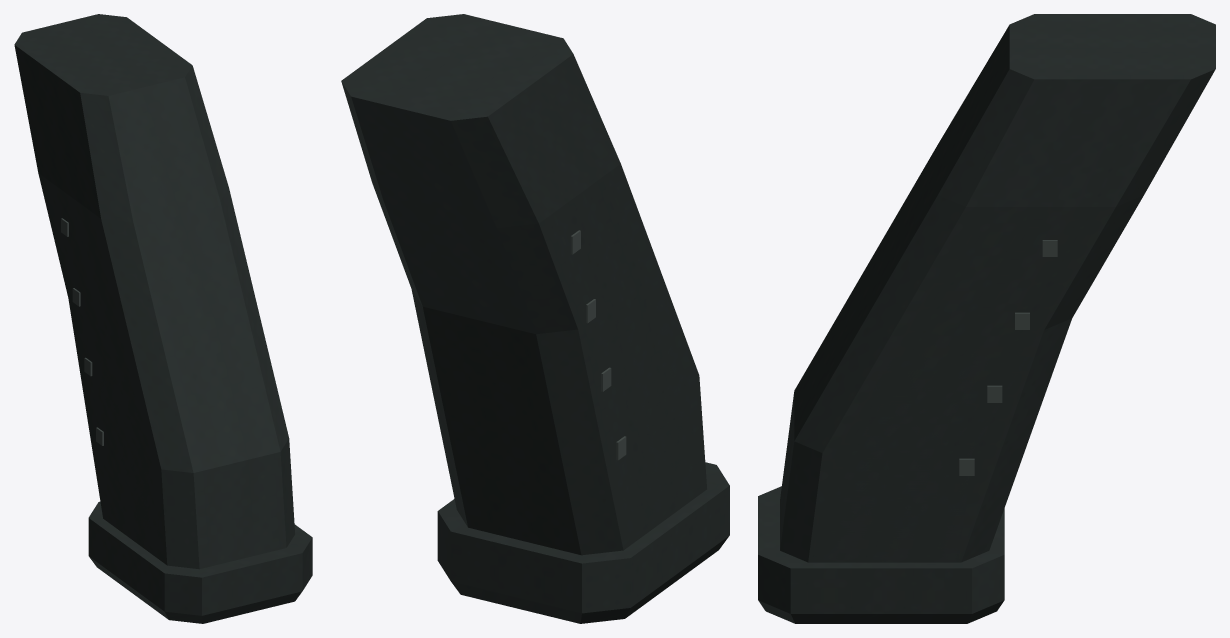
File: glock_17.glb
3 renders of one model, left to right at view 1: azimuth 30°, elevation 25°; view 2: azimuth 150°, elevation 25°; view 3: azimuth 270°, elevation 25°, orthographic. The views are drawn at different scales.
Parts seen in each view (by area): view 1: glock_17_shell_0, glock_17_shell_1, glock_17_witness; view 2: glock_17_shell_0, glock_17_shell_1, glock_17_witness; view 3: glock_17_shell_0, glock_17_shell_1, glock_17_witness.
Boxes of the visible parts, x1,y1,x2,y2 form: glock_17_shell_0: [14, 14, 312, 623]; glock_17_shell_1: [68, 77, 249, 563]; glock_17_witness: [61, 218, 103, 445]; glock_17_shell_0: [341, 14, 729, 623]; glock_17_shell_1: [352, 97, 704, 555]; glock_17_witness: [570, 230, 626, 460]; glock_17_shell_0: [758, 14, 1215, 623]; glock_17_shell_1: [814, 27, 1071, 562]; glock_17_witness: [959, 240, 1057, 475].
Size of the model in its own units: 0.0405 by 0.118 by 0.091.
2 materials, 1 textured.
